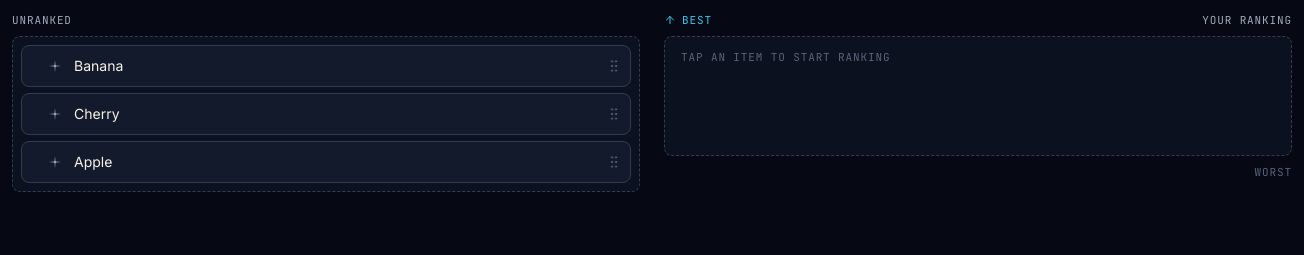
Scenario: Sortable › promotes an unranked item to the bottom of the ranked list when tapped
This screenshot has width=1304, height=255.
Click the button with aria-label "Rank Apple": {"x": 93, "y": 162} [22,142,594,182]
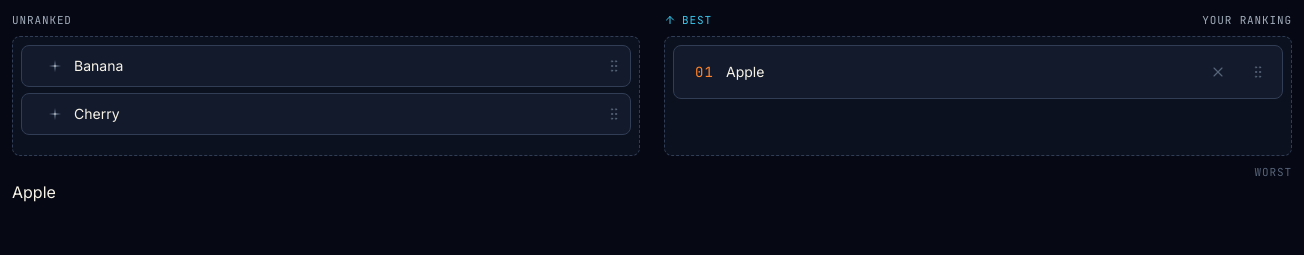
Click the button with aria-label "Rank Cherry": {"x": 97, "y": 114} [22,94,594,134]
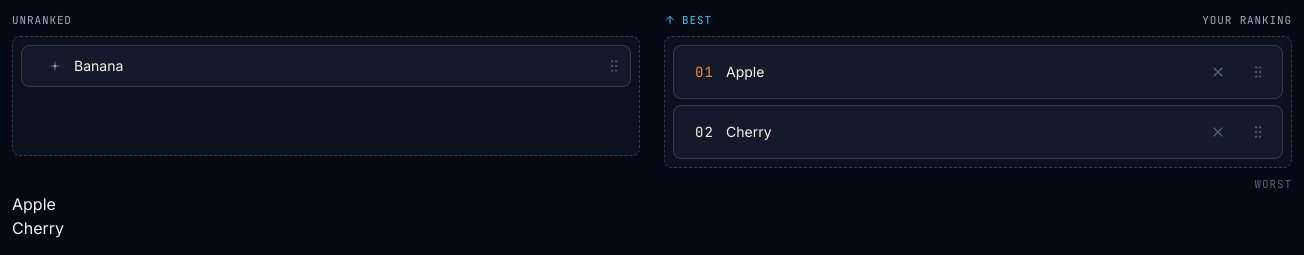
Expected: the list with test id "committed" reads "Apple Cherry", [12,194,64,238]
